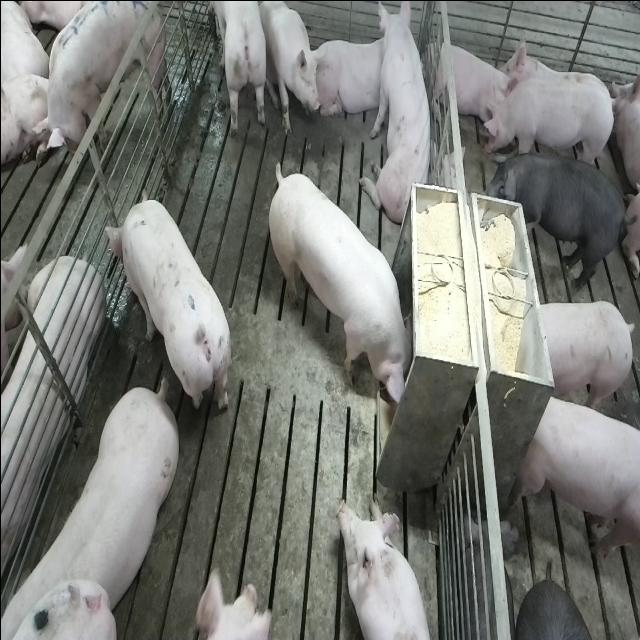Feeding: (272, 161, 421, 409)
Sitting: (363, 4, 436, 230), (258, 2, 320, 138)
Standing: (5, 372, 184, 632), (101, 195, 232, 422), (516, 387, 638, 566), (24, 0, 164, 154), (500, 144, 626, 284), (480, 73, 617, 169), (530, 296, 634, 414), (203, 1, 266, 141)
Sternal_lying: (0, 253, 101, 580), (334, 495, 435, 640), (429, 35, 510, 132), (312, 33, 388, 122), (190, 564, 280, 638)
